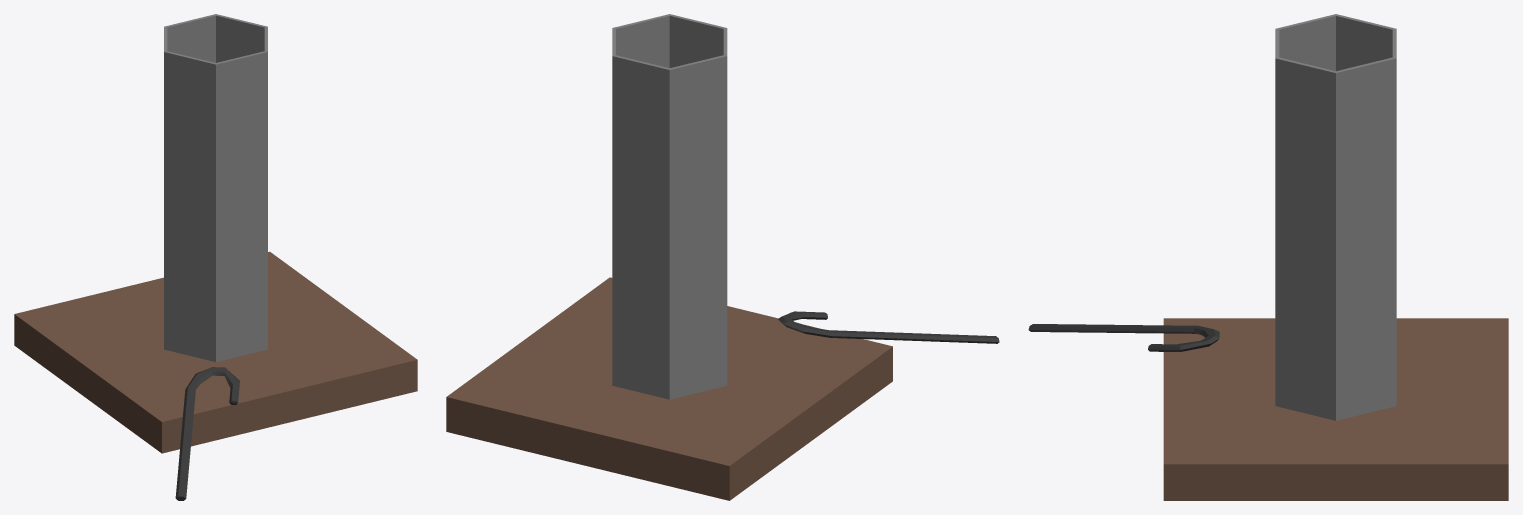
The model's file is toy_bucket.fbx.
3 views of the same model, side by side, from view 1: azimuth 30°, elevation 25°; view 2: azimuth 150°, elevation 25°; view 3: azimuth 270°, elevation 25° (orthographic). The views are drawn at different scales.
Parts seen in each view (by area): view 1: toy_bucket; view 2: toy_bucket; view 3: toy_bucket.
Boxes of the visible parts, left/top/right/bottom form: toy_bucket: left=14, top=14, right=417, bottom=500; toy_bucket: left=446, top=14, right=999, bottom=500; toy_bucket: left=1028, top=14, right=1508, bottom=500.
Size of the model in its own units: 1.16 by 1.23 by 1.39.
